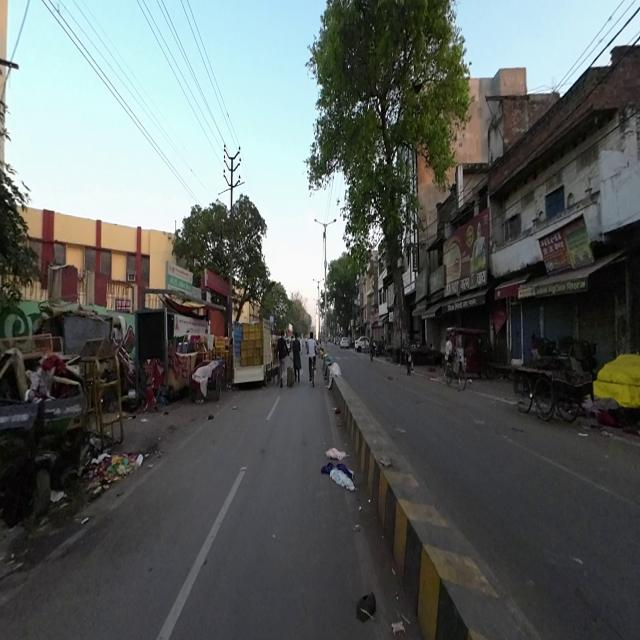Garbage: (82, 448, 142, 488)
